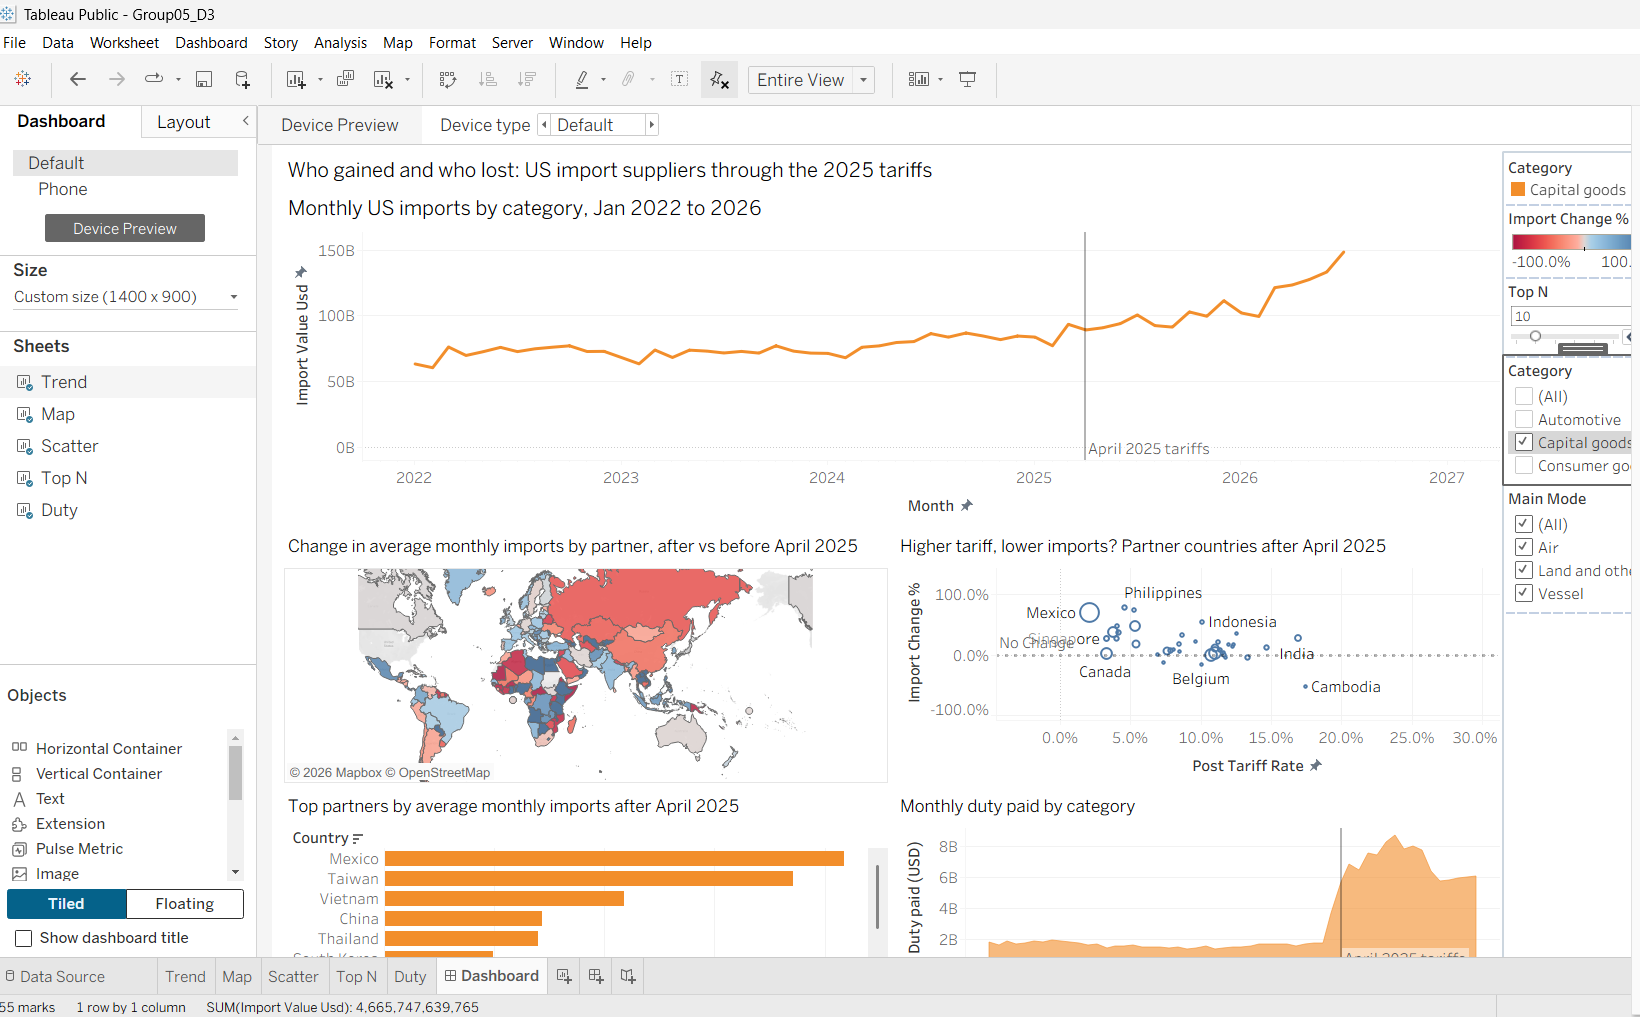

Layout of this report page (visuals, bound fields, positions):
{"tool":"tableau","page":{"name":"Dashboard","canvas":[1400,900],"ordinal":0},"visuals":[{"type":"title","box":[8,8,1224,39]},{"type":"legend","title":"Trend","param":"[federated.18gt4sf0fpw86b1c7o02n16nllmp].[none:category:nk]","box":[1232,8,160,109]},{"type":"worksheet","title":"Trend","mark":"Automatic","rows":["import_value_usd"],"cols":["month"],"box":[8,47,1224,338]},{"type":"legend","title":"Map","param":"[federated.18gt4sf0fpw86b1c7o02n16nllmp].[usr:Calculation_0940693316509699:qk]","box":[1232,117,160,81]},{"type":"parameter","param":"[Parameters].[Parameter 0940693338406919]","box":[1232,198,160,83]},{"type":"filter","title":"Trend","param":"[federated.18gt4sf0fpw86b1c7o02n16nllmp].[none:category:nk]","box":[1232,281,160,148]},{"type":"worksheet","title":"Map","mark":"Multipolygon","box":[8,385,612,258]},{"type":"worksheet","title":"Scatter","mark":"Automatic","rows":["Calculation_0940693316509699"],"cols":["Calculation_0940693316628484"],"box":[620,385,612,258]},{"type":"filter","title":"Trend","param":"[federated.18gt4sf0fpw86b1c7o02n16nllmp].[none:main_mode:nk]","box":[1232,429,160,148]},{"type":"worksheet","title":"Top N","mark":"Automatic","rows":["country"],"cols":["Calculation_0940693316362242"],"box":[8,643,612,249]},{"type":"worksheet","title":"Duty","mark":"Area","rows":["calculated_duty_usd"],"cols":["month"],"box":[620,643,612,249]}]}

Visuals, with their boxes on the page's 1400x900 design canvas (x1, y1, x2, y2). These are canvas units, not pixel positions in the 1640x1017 screenshot, which may show the page scaled, cropped or inside an application window:
title: Rect(8, 8, 1232, 47)
"Trend" legend: Rect(1232, 8, 1392, 117)
"Trend" worksheet: Rect(8, 47, 1232, 385)
"Map" legend: Rect(1232, 117, 1392, 198)
parameter: Rect(1232, 198, 1392, 281)
"Trend" filter: Rect(1232, 281, 1392, 429)
"Map" worksheet (Multipolygon marks): Rect(8, 385, 620, 643)
"Scatter" worksheet: Rect(620, 385, 1232, 643)
"Trend" filter: Rect(1232, 429, 1392, 577)
"Top N" worksheet: Rect(8, 643, 620, 892)
"Duty" worksheet (Area marks): Rect(620, 643, 1232, 892)
